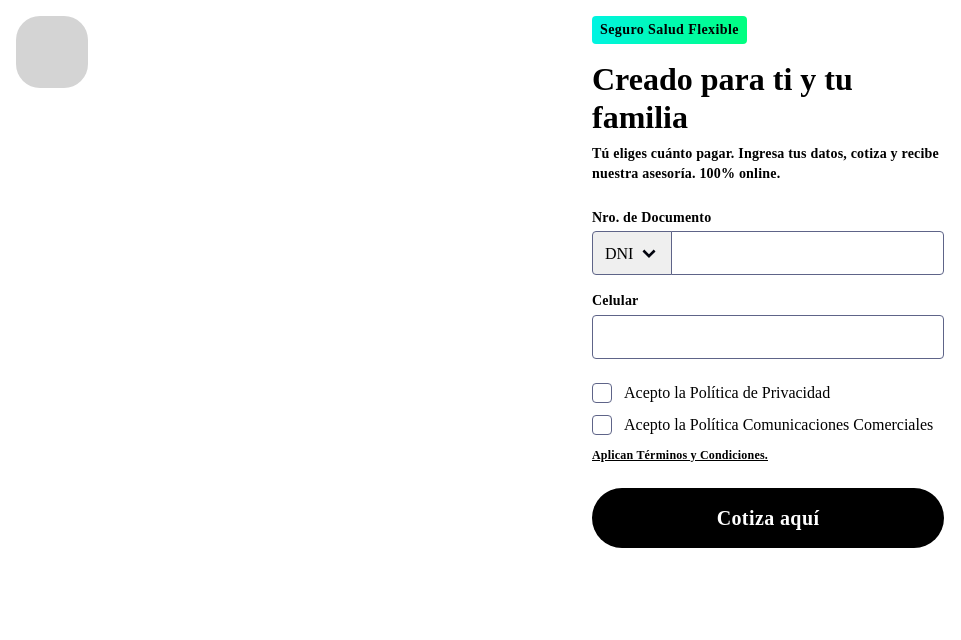
Formulario Home › debería mostrar un mensaje de error si el número de documento está vacío al intentar enviar
Click the button "Cotiza aquí" at (768, 518), box [592, 488, 944, 548]
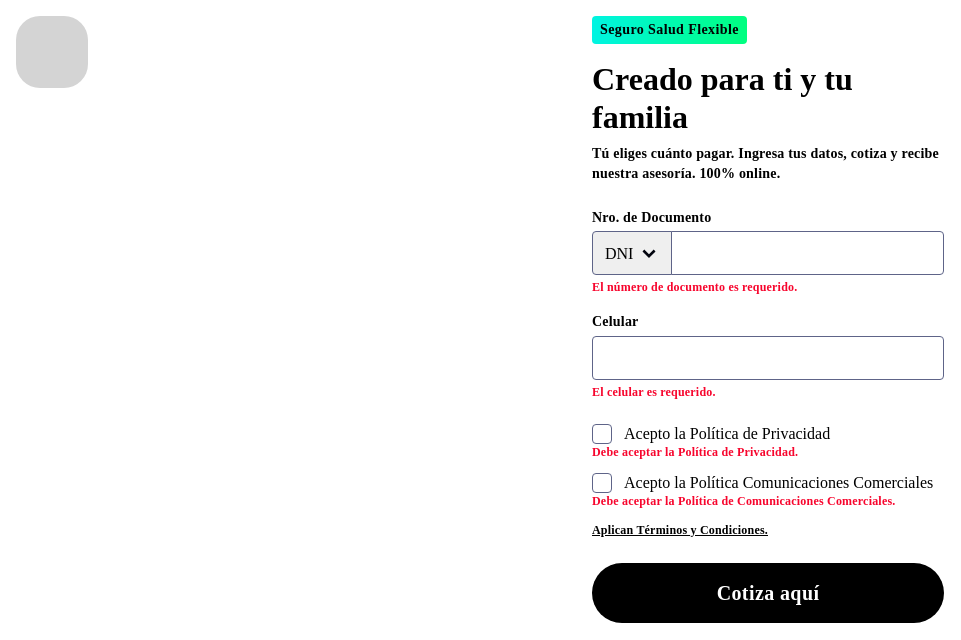
Check: the text "El número de documento es requerido." is shown, box [592, 280, 797, 294]
